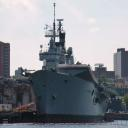Portanaves: (30, 7, 124, 125)
